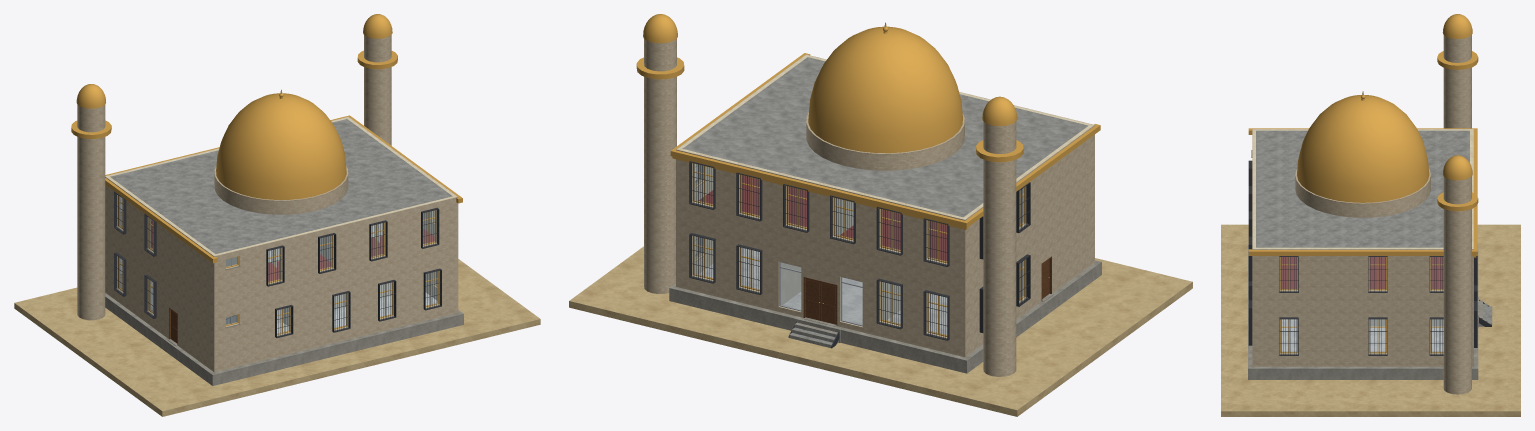
The model's file is b_desert_palace.gltf.
The picture shows the model from 3 angles, left to right: view 1: azimuth 30°, elevation 25°; view 2: azimuth 150°, elevation 25°; view 3: azimuth 270°, elevation 25°; orthographic projection. The views are drawn at different scales.
Parts seen in each view (by area): view 1: S_desert_palace; view 2: S_desert_palace, D_desert_palace_F1_S6_Door0, D_desert_palace_F1_S6_Door1; view 3: S_desert_palace.
Boxes of the visible parts, x1,y1,x2,y2 form: S_desert_palace: (14,14,540,416); S_desert_palace: (569,14,1192,416); D_desert_palace_F1_S6_Door0: (805,278,821,320); D_desert_palace_F1_S6_Door1: (821,282,836,324); S_desert_palace: (1221,14,1520,416).
Size of the model in its own units: 28 by 16.63 by 19.
18 materials, 12 textured.
